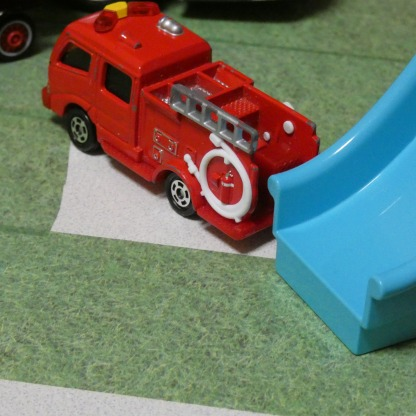car: (41, 1, 324, 244)
